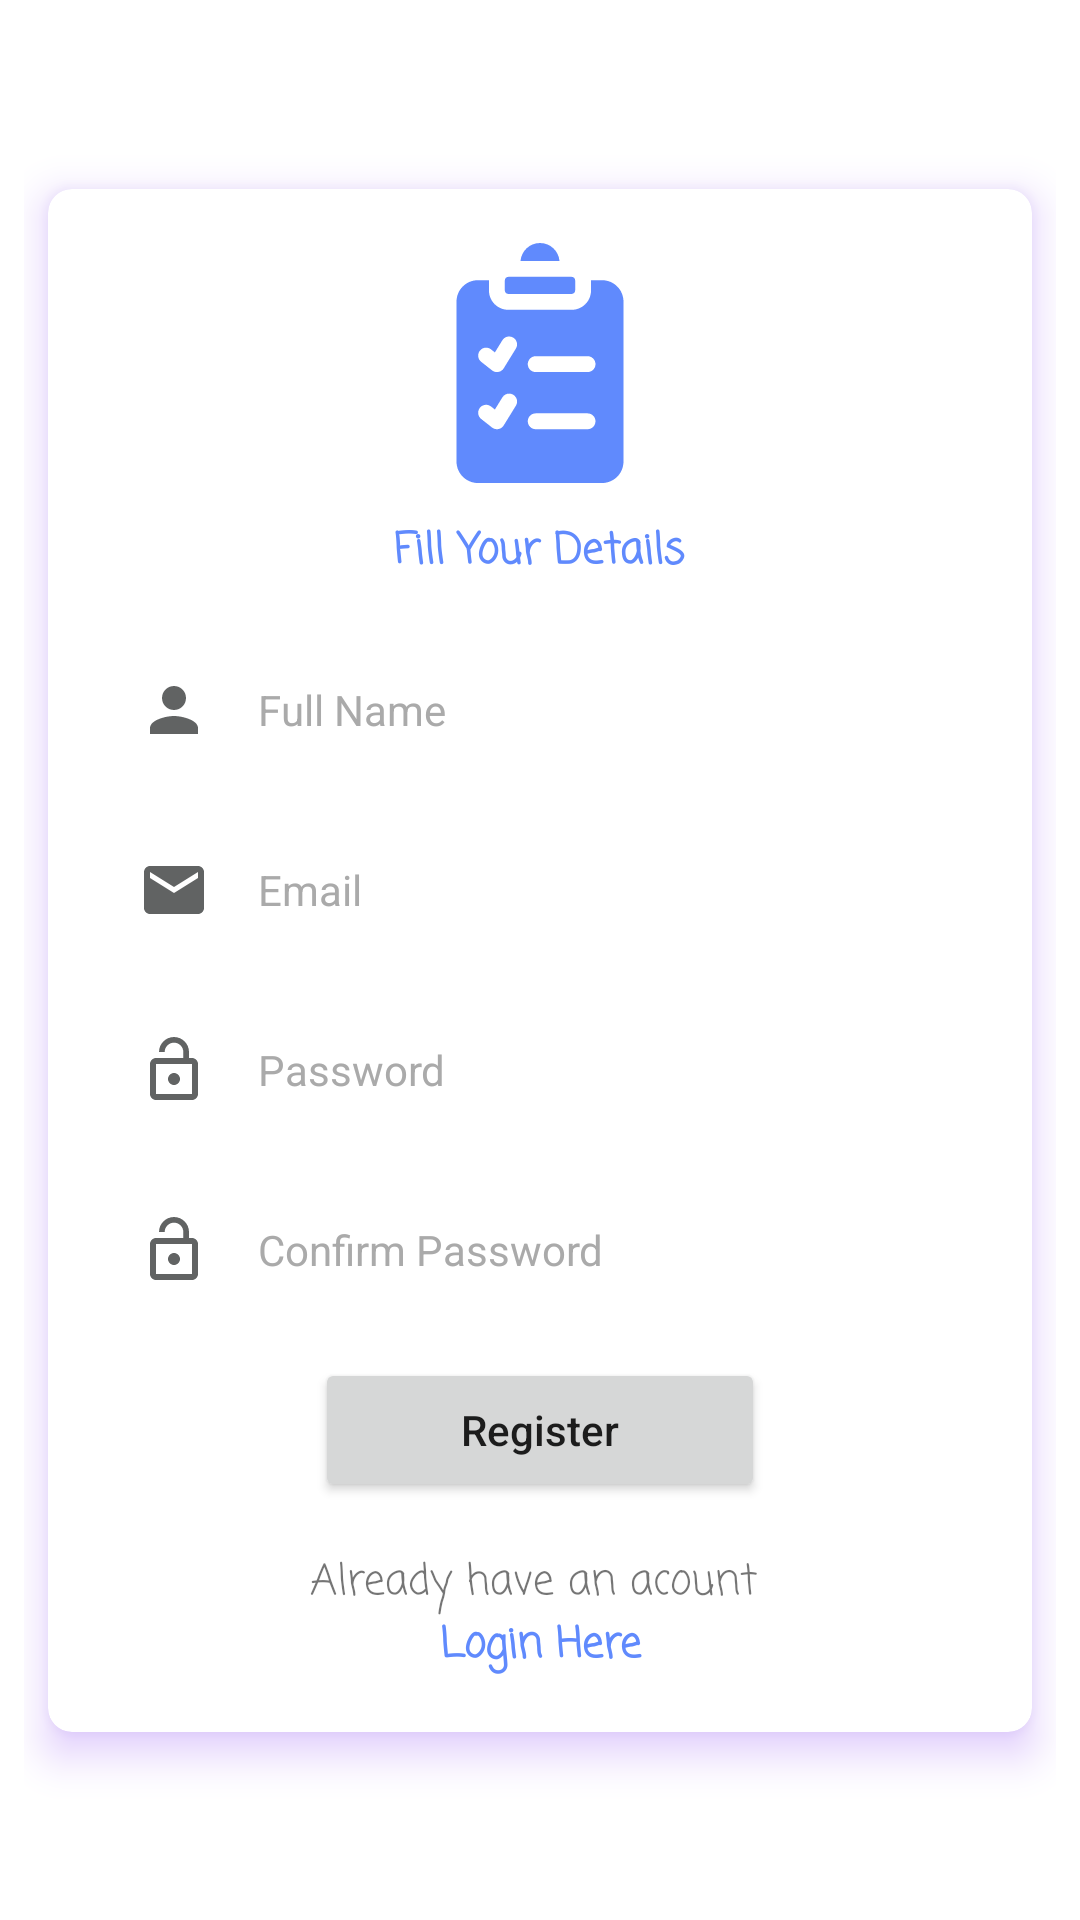

Icon click points for this 1080*1920 phone screenshot, format point (x, y):
form: point (540, 363)
